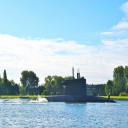submarine: (6, 68, 118, 104)
